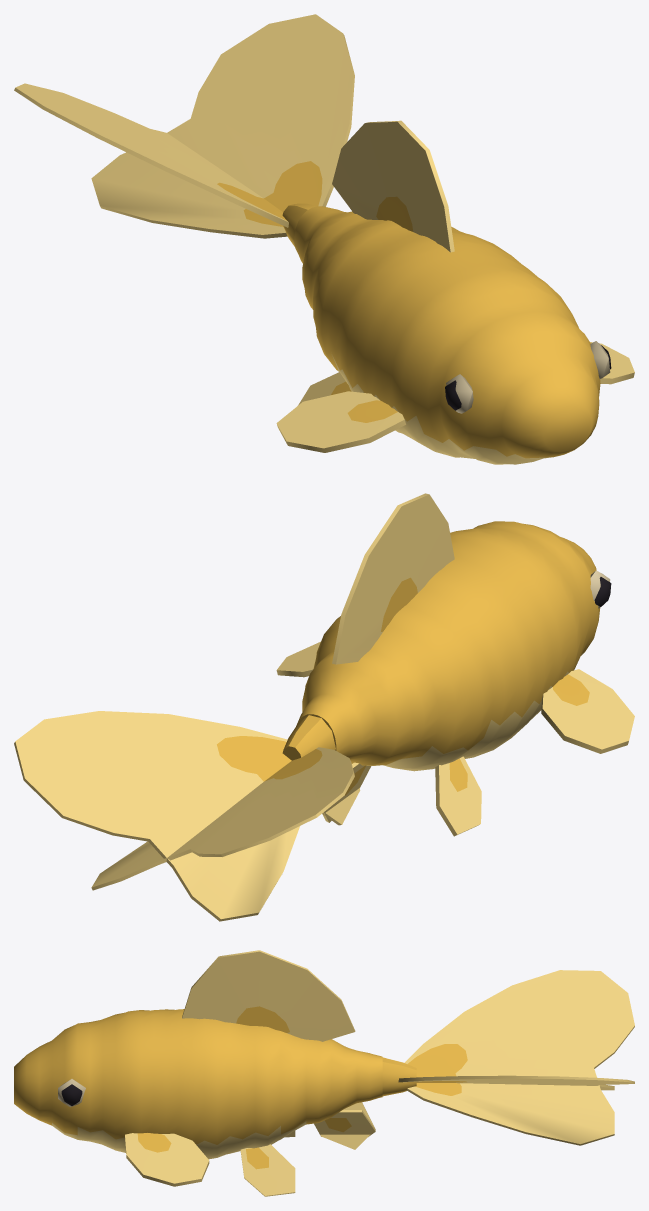
The model's file is kingyo_kin.glb.
The picture shows the model from 3 angles, top to bottom: view 1: azimuth 30°, elevation 25°; view 2: azimuth 150°, elevation 25°; view 3: azimuth 270°, elevation 25°; orthographic projection. The views are drawn at different scales.
Visible parts, largest first — view 1: body, tail; view 2: body, tail; view 3: body, tail.
Part boxes in pixels (box(x1,y1,x2,y2)): body: box(276, 120, 634, 464); tail: box(14, 14, 354, 246); body: box(276, 493, 634, 836); tail: box(14, 711, 354, 921); body: box(14, 950, 382, 1196); tail: box(382, 970, 634, 1145).
Bounding box in the file's own units: 0.0423 × 0.0351 × 0.091.
